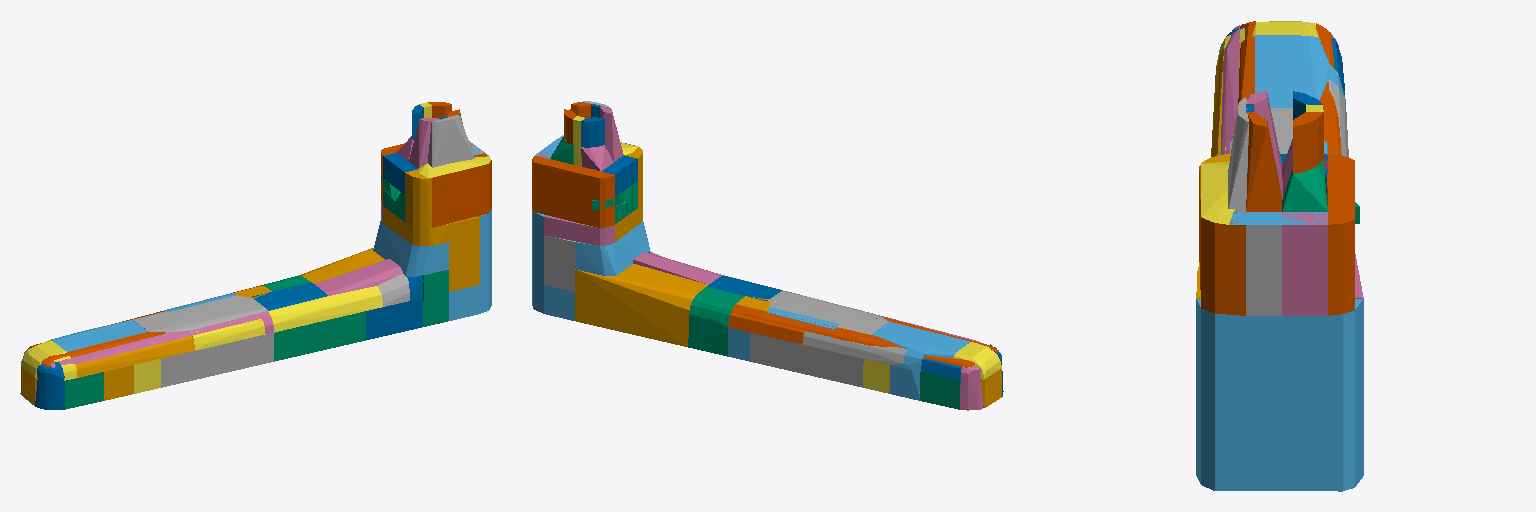
--- Facts derived from the render (not from the file) ---
Views: 3 orthographic renders of the robot side by side, from view 1: azimuth 30°, elevation 25°; view 2: azimuth 150°, elevation 25°; view 3: azimuth 270°, elevation 25°.
Model root with 64 links and 63 joints (63 fixed), rooted at link_handle~handle8_convex_piece_0, posed every joint at zero.
Visible links, largest first — view 1: link_handle~handle8_convex_piece_63, link_handle~handle8_convex_piece_21, link_handle~handle8_convex_piece_58, link_handle~handle8_convex_piece_35, link_handle~handle8_convex_piece_47, link_handle~handle8_convex_piece_49, link_handle~handle8_convex_piece_8, link_handle~handle8_convex_piece_55, link_handle~handle8_convex_piece_48, link_handle~handle8_convex_piece_44, link_handle~handle8_convex_piece_46, link_handle~handle8_convex_piece_38 (+19 smaller); view 2: link_handle~handle8_convex_piece_56, link_handle~handle8_convex_piece_45, link_handle~handle8_convex_piece_63, link_handle~handle8_convex_piece_34, link_handle~handle8_convex_piece_49, link_handle~handle8_convex_piece_47, link_handle~handle8_convex_piece_61, link_handle~handle8_convex_piece_41, link_handle~handle8_convex_piece_7, link_handle~handle8_convex_piece_22, link_handle~handle8_convex_piece_57, link_handle~handle8_convex_piece_25 (+17 smaller); view 3: link_handle~handle8_convex_piece_25, link_handle~handle8_convex_piece_6, link_handle~handle8_convex_piece_41, link_handle~handle8_convex_piece_21, link_handle~handle8_convex_piece_45, link_handle~handle8_convex_piece_15, link_handle~handle8_convex_piece_53, link_handle~handle8_convex_piece_55, link_handle~handle8_convex_piece_26, link_handle~handle8_convex_piece_29, link_handle~handle8_convex_piece_38, link_handle~handle8_convex_piece_43 (+7 smaller).
Link boxes in pixels (x1,y1,x2,y2): link_handle~handle8_convex_piece_63: (161, 333, 273, 387); link_handle~handle8_convex_piece_21: (432, 153, 491, 227); link_handle~handle8_convex_piece_58: (274, 311, 365, 361); link_handle~handle8_convex_piece_35: (268, 286, 382, 332); link_handle~handle8_convex_piece_47: (134, 295, 267, 333); link_handle~handle8_convex_piece_49: (373, 220, 448, 276); link_handle~handle8_convex_piece_8: (449, 216, 479, 291); link_handle~handle8_convex_piece_55: (428, 115, 474, 167); link_handle~handle8_convex_piece_48: (75, 336, 194, 377); link_handle~handle8_convex_piece_44: (366, 298, 422, 339); link_handle~handle8_convex_piece_46: (314, 259, 402, 295); link_handle~handle8_convex_piece_38: (50, 313, 261, 367); link_handle~handle8_convex_piece_56: (575, 264, 707, 346); link_handle~handle8_convex_piece_45: (532, 156, 614, 227); link_handle~handle8_convex_piece_63: (750, 332, 863, 387); link_handle~handle8_convex_piece_34: (688, 287, 744, 356); link_handle~handle8_convex_piece_49: (575, 221, 650, 275); link_handle~handle8_convex_piece_47: (769, 291, 888, 332); link_handle~handle8_convex_piece_61: (731, 304, 974, 367); link_handle~handle8_convex_piece_41: (872, 322, 969, 357); link_handle~handle8_convex_piece_7: (544, 235, 575, 291); link_handle~handle8_convex_piece_22: (544, 215, 614, 245); link_handle~handle8_convex_piece_57: (890, 348, 924, 400); link_handle~handle8_convex_piece_25: (532, 209, 546, 313); link_handle~handle8_convex_piece_25: (1196, 299, 1363, 491); link_handle~handle8_convex_piece_6: (1282, 212, 1327, 315); link_handle~handle8_convex_piece_41: (1255, 35, 1329, 107); link_handle~handle8_convex_piece_21: (1199, 166, 1245, 315); link_handle~handle8_convex_piece_45: (1327, 154, 1354, 315); link_handle~handle8_convex_piece_15: (1246, 212, 1281, 315); link_handle~handle8_convex_piece_53: (1246, 112, 1281, 211); link_handle~handle8_convex_piece_55: (1228, 97, 1248, 211); link_handle~handle8_convex_piece_26: (1282, 159, 1327, 211); link_handle~handle8_convex_piece_29: (1293, 112, 1323, 173); link_handle~handle8_convex_piece_38: (1221, 25, 1239, 154); link_handle~handle8_convex_piece_43: (1201, 162, 1234, 224).
Bounding box of the posed robot: 0.1277 × 0.0227 × 0.052 m (x, y, z).
Meshes: 64 distinct files referenced, 64 mesh visuals loaded (64 OBJ).

URDF robot description (root):
<robot name="root">
  <link name="link_handle~handle8_convex_piece_0">
    <inertial>
      <origin xyz="0 0 0" rpy="0 0 0"/>
      <mass value="9.66E-04"/>
      <inertia ixx="1.10E-07" ixy="-2.01E-07" ixz="-5.53E-07" iyy="3.87E-06" iyz="-3.13E-08" izz="3.80E-06"/>
    </inertial>
    <visual>
      <origin xyz="0 0 0" rpy="0 0 0"/>
      <geometry>
        <mesh filename="handle~handle8_convex_piece_0.obj" scale="1.0000E+00 1.0000E+00 1.0000E+00"/>
      </geometry>
      <material name=""/>
    </visual>
    <collision>
      <origin xyz="0 0 0" rpy="0 0 0"/>
      <geometry>
        <mesh filename="handle~handle8_convex_piece_0.obj" scale="1.0000E+00 1.0000E+00 1.0000E+00"/>
      </geometry>
    </collision>
  </link>
  <link name="link_handle~handle8_convex_piece_1">
    <inertial>
      <origin xyz="0 0 0" rpy="0 0 0"/>
      <mass value="5.49E-04"/>
      <inertia ixx="7.18E-08" ixy="4.76E-08" ixz="-7.96E-08" iyy="1.89E-07" iyz="2.88E-08" izz="1.57E-07"/>
    </inertial>
    <visual>
      <origin xyz="0 0 0" rpy="0 0 0"/>
      <geometry>
        <mesh filename="handle~handle8_convex_piece_1.obj" scale="1.0000E+00 1.0000E+00 1.0000E+00"/>
      </geometry>
      <material name=""/>
    </visual>
    <collision>
      <origin xyz="0 0 0" rpy="0 0 0"/>
      <geometry>
        <mesh filename="handle~handle8_convex_piece_1.obj" scale="1.0000E+00 1.0000E+00 1.0000E+00"/>
      </geometry>
    </collision>
  </link>
  <joint name="link_handle~handle8_convex_piece_1_joint" type="fixed">
    <origin xyz="0 0 0" rpy="0 0 0"/>
    <parent link="link_handle~handle8_convex_piece_0"/>
    <child link="link_handle~handle8_convex_piece_1"/>
  </joint>
  <link name="link_handle~handle8_convex_piece_2">
    <inertial>
      <origin xyz="0 0 0" rpy="0 0 0"/>
      <mass value="1.30E-03"/>
      <inertia ixx="1.38E-07" ixy="1.82E-07" ixz="2.47E-07" iyy="1.01E-06" iyz="-4.94E-08" izz="9.71E-07"/>
    </inertial>
    <visual>
      <origin xyz="0 0 0" rpy="0 0 0"/>
      <geometry>
        <mesh filename="handle~handle8_convex_piece_2.obj" scale="1.0000E+00 1.0000E+00 1.0000E+00"/>
      </geometry>
      <material name=""/>
    </visual>
    <collision>
      <origin xyz="0 0 0" rpy="0 0 0"/>
      <geometry>
        <mesh filename="handle~handle8_convex_piece_2.obj" scale="1.0000E+00 1.0000E+00 1.0000E+00"/>
      </geometry>
    </collision>
  </link>
  <joint name="link_handle~handle8_convex_piece_2_joint" type="fixed">
    <origin xyz="0 0 0" rpy="0 0 0"/>
    <parent link="link_handle~handle8_convex_piece_1"/>
    <child link="link_handle~handle8_convex_piece_2"/>
  </joint>
  <link name="link_handle~handle8_convex_piece_3">
    <inertial>
      <origin xyz="0 0 0" rpy="0 0 0"/>
      <mass value="1.32E-03"/>
      <inertia ixx="1.67E-07" ixy="3.55E-09" ixz="-6.91E-07" iyy="4.07E-06" iyz="2.99E-10" izz="3.97E-06"/>
    </inertial>
    <visual>
      <origin xyz="0 0 0" rpy="0 0 0"/>
      <geometry>
        <mesh filename="handle~handle8_convex_piece_3.obj" scale="1.0000E+00 1.0000E+00 1.0000E+00"/>
      </geometry>
      <material name=""/>
    </visual>
    <collision>
      <origin xyz="0 0 0" rpy="0 0 0"/>
      <geometry>
        <mesh filename="handle~handle8_convex_piece_3.obj" scale="1.0000E+00 1.0000E+00 1.0000E+00"/>
      </geometry>
    </collision>
  </link>
  <joint name="link_handle~handle8_convex_piece_3_joint" type="fixed">
    <origin xyz="0 0 0" rpy="0 0 0"/>
    <parent link="link_handle~handle8_convex_piece_2"/>
    <child link="link_handle~handle8_convex_piece_3"/>
  </joint>
  <link name="link_handle~handle8_convex_piece_4">
    <inertial>
      <origin xyz="0 0 0" rpy="0 0 0"/>
      <mass value="1.26E-04"/>
      <inertia ixx="9.52E-09" ixy="2.07E-08" ixz="8.66E-09" iyy="5.88E-08" iyz="-3.23E-09" izz="6.50E-08"/>
    </inertial>
    <visual>
      <origin xyz="0 0 0" rpy="0 0 0"/>
      <geometry>
        <mesh filename="handle~handle8_convex_piece_4.obj" scale="1.0000E+00 1.0000E+00 1.0000E+00"/>
      </geometry>
      <material name=""/>
    </visual>
    <collision>
      <origin xyz="0 0 0" rpy="0 0 0"/>
      <geometry>
        <mesh filename="handle~handle8_convex_piece_4.obj" scale="1.0000E+00 1.0000E+00 1.0000E+00"/>
      </geometry>
    </collision>
  </link>
  <joint name="link_handle~handle8_convex_piece_4_joint" type="fixed">
    <origin xyz="0 0 0" rpy="0 0 0"/>
    <parent link="link_handle~handle8_convex_piece_3"/>
    <child link="link_handle~handle8_convex_piece_4"/>
  </joint>
  <link name="link_handle~handle8_convex_piece_5">
    <inertial>
      <origin xyz="0 0 0" rpy="0 0 0"/>
      <mass value="6.37E-05"/>
      <inertia ixx="4.13E-09" ixy="-8.38E-09" ixz="-1.26E-08" iyy="7.22E-08" iyz="-1.53E-09" izz="7.01E-08"/>
    </inertial>
    <visual>
      <origin xyz="0 0 0" rpy="0 0 0"/>
      <geometry>
        <mesh filename="handle~handle8_convex_piece_5.obj" scale="1.0000E+00 1.0000E+00 1.0000E+00"/>
      </geometry>
      <material name=""/>
    </visual>
    <collision>
      <origin xyz="0 0 0" rpy="0 0 0"/>
      <geometry>
        <mesh filename="handle~handle8_convex_piece_5.obj" scale="1.0000E+00 1.0000E+00 1.0000E+00"/>
      </geometry>
    </collision>
  </link>
  <joint name="link_handle~handle8_convex_piece_5_joint" type="fixed">
    <origin xyz="0 0 0" rpy="0 0 0"/>
    <parent link="link_handle~handle8_convex_piece_4"/>
    <child link="link_handle~handle8_convex_piece_5"/>
  </joint>
  <link name="link_handle~handle8_convex_piece_6">
    <inertial>
      <origin xyz="0 0 0" rpy="0 0 0"/>
      <mass value="4.26E-04"/>
      <inertia ixx="1.64E-07" ixy="-5.77E-08" ixz="-3.39E-07" iyy="9.14E-07" iyz="-2.60E-08" izz="7.62E-07"/>
    </inertial>
    <visual>
      <origin xyz="0 0 0" rpy="0 0 0"/>
      <geometry>
        <mesh filename="handle~handle8_convex_piece_6.obj" scale="1.0000E+00 1.0000E+00 1.0000E+00"/>
      </geometry>
      <material name=""/>
    </visual>
    <collision>
      <origin xyz="0 0 0" rpy="0 0 0"/>
      <geometry>
        <mesh filename="handle~handle8_convex_piece_6.obj" scale="1.0000E+00 1.0000E+00 1.0000E+00"/>
      </geometry>
    </collision>
  </link>
  <joint name="link_handle~handle8_convex_piece_6_joint" type="fixed">
    <origin xyz="0 0 0" rpy="0 0 0"/>
    <parent link="link_handle~handle8_convex_piece_5"/>
    <child link="link_handle~handle8_convex_piece_6"/>
  </joint>
  <link name="link_handle~handle8_convex_piece_7">
    <inertial>
      <origin xyz="0 0 0" rpy="0 0 0"/>
      <mass value="7.29E-04"/>
      <inertia ixx="6.05E-08" ixy="-2.02E-07" ixz="-1.78E-08" iyy="8.79E-07" iyz="-3.94E-09" izz="9.18E-07"/>
    </inertial>
    <visual>
      <origin xyz="0 0 0" rpy="0 0 0"/>
      <geometry>
        <mesh filename="handle~handle8_convex_piece_7.obj" scale="1.0000E+00 1.0000E+00 1.0000E+00"/>
      </geometry>
      <material name=""/>
    </visual>
    <collision>
      <origin xyz="0 0 0" rpy="0 0 0"/>
      <geometry>
        <mesh filename="handle~handle8_convex_piece_7.obj" scale="1.0000E+00 1.0000E+00 1.0000E+00"/>
      </geometry>
    </collision>
  </link>
  <joint name="link_handle~handle8_convex_piece_7_joint" type="fixed">
    <origin xyz="0 0 0" rpy="0 0 0"/>
    <parent link="link_handle~handle8_convex_piece_6"/>
    <child link="link_handle~handle8_convex_piece_7"/>
  </joint>
  <link name="link_handle~handle8_convex_piece_8">
    <inertial>
      <origin xyz="0 0 0" rpy="0 0 0"/>
      <mass value="1.00E-03"/>
      <inertia ixx="1.05E-07" ixy="2.76E-07" ixz="-1.09E-07" iyy="1.23E-06" iyz="2.51E-08" izz="1.26E-06"/>
    </inertial>
    <visual>
      <origin xyz="0 0 0" rpy="0 0 0"/>
      <geometry>
        <mesh filename="handle~handle8_convex_piece_8.obj" scale="1.0000E+00 1.0000E+00 1.0000E+00"/>
      </geometry>
      <material name=""/>
    </visual>
    <collision>
      <origin xyz="0 0 0" rpy="0 0 0"/>
      <geometry>
        <mesh filename="handle~handle8_convex_piece_8.obj" scale="1.0000E+00 1.0000E+00 1.0000E+00"/>
      </geometry>
    </collision>
  </link>
  <joint name="link_handle~handle8_convex_piece_8_joint" type="fixed">
    <origin xyz="0 0 0" rpy="0 0 0"/>
    <parent link="link_handle~handle8_convex_piece_7"/>
    <child link="link_handle~handle8_convex_piece_8"/>
  </joint>
  <link name="link_handle~handle8_convex_piece_9">
    <inertial>
      <origin xyz="0 0 0" rpy="0 0 0"/>
      <mass value="0.00E+00"/>
      <inertia ixx="5.80E-23" ixy="-0.00E+00" ixz="-1.74E-22" iyy="5.80E-23" iyz="-0.00E+00" izz="0.00E+00"/>
    </inertial>
    <visual>
      <origin xyz="0 0 0" rpy="0 0 0"/>
      <geometry>
        <mesh filename="handle~handle8_convex_piece_9.obj" scale="1.0000E+00 1.0000E+00 1.0000E+00"/>
      </geometry>
      <material name=""/>
    </visual>
    <collision>
      <origin xyz="0 0 0" rpy="0 0 0"/>
      <geometry>
        <mesh filename="handle~handle8_convex_piece_9.obj" scale="1.0000E+00 1.0000E+00 1.0000E+00"/>
      </geometry>
    </collision>
  </link>
  <joint name="link_handle~handle8_convex_piece_9_joint" type="fixed">
    <origin xyz="0 0 0" rpy="0 0 0"/>
    <parent link="link_handle~handle8_convex_piece_8"/>
    <child link="link_handle~handle8_convex_piece_9"/>
  </joint>
  <link name="link_handle~handle8_convex_piece_10">
    <inertial>
      <origin xyz="0 0 0" rpy="0 0 0"/>
      <mass value="7.95E-05"/>
      <inertia ixx="2.95E-08" ixy="-1.14E-08" ixz="-3.44E-08" iyy="7.14E-08" iyz="-8.72E-09" izz="4.84E-08"/>
    </inertial>
    <visual>
      <origin xyz="0 0 0" rpy="0 0 0"/>
      <geometry>
        <mesh filename="handle~handle8_convex_piece_10.obj" scale="1.0000E+00 1.0000E+00 1.0000E+00"/>
      </geometry>
      <material name=""/>
    </visual>
    <collision>
      <origin xyz="0 0 0" rpy="0 0 0"/>
      <geometry>
        <mesh filename="handle~handle8_convex_piece_10.obj" scale="1.0000E+00 1.0000E+00 1.0000E+00"/>
      </geometry>
    </collision>
  </link>
  <joint name="link_handle~handle8_convex_piece_10_joint" type="fixed">
    <origin xyz="0 0 0" rpy="0 0 0"/>
    <parent link="link_handle~handle8_convex_piece_9"/>
    <child link="link_handle~handle8_convex_piece_10"/>
  </joint>
  <link name="link_handle~handle8_convex_piece_11">
    <inertial>
      <origin xyz="0 0 0" rpy="0 0 0"/>
      <mass value="1.10E-04"/>
      <inertia ixx="8.50E-08" ixy="-1.58E-08" ixz="-9.57E-08" iyy="2.02E-07" iyz="-1.29E-08" izz="1.21E-07"/>
    </inertial>
    <visual>
      <origin xyz="0 0 0" rpy="0 0 0"/>
      <geometry>
        <mesh filename="handle~handle8_convex_piece_11.obj" scale="1.0000E+00 1.0000E+00 1.0000E+00"/>
      </geometry>
      <material name=""/>
    </visual>
    <collision>
      <origin xyz="0 0 0" rpy="0 0 0"/>
      <geometry>
        <mesh filename="handle~handle8_convex_piece_11.obj" scale="1.0000E+00 1.0000E+00 1.0000E+00"/>
      </geometry>
    </collision>
  </link>
  <joint name="link_handle~handle8_convex_piece_11_joint" type="fixed">
    <origin xyz="0 0 0" rpy="0 0 0"/>
    <parent link="link_handle~handle8_convex_piece_10"/>
    <child link="link_handle~handle8_convex_piece_11"/>
  </joint>
  <link name="link_handle~handle8_convex_piece_12">
    <inertial>
      <origin xyz="0 0 0" rpy="0 0 0"/>
      <mass value="5.61E-05"/>
      <inertia ixx="4.03E-09" ixy="2.89E-08" ixz="-1.80E-08" iyy="2.95E-07" iyz="1.80E-09" izz="2.97E-07"/>
    </inertial>
    <visual>
      <origin xyz="0 0 0" rpy="0 0 0"/>
      <geometry>
        <mesh filename="handle~handle8_convex_piece_12.obj" scale="1.0000E+00 1.0000E+00 1.0000E+00"/>
      </geometry>
      <material name=""/>
    </visual>
    <collision>
      <origin xyz="0 0 0" rpy="0 0 0"/>
      <geometry>
        <mesh filename="handle~handle8_convex_piece_12.obj" scale="1.0000E+00 1.0000E+00 1.0000E+00"/>
      </geometry>
    </collision>
  </link>
  <joint name="link_handle~handle8_convex_piece_12_joint" type="fixed">
    <origin xyz="0 0 0" rpy="0 0 0"/>
    <parent link="link_handle~handle8_convex_piece_11"/>
    <child link="link_handle~handle8_convex_piece_12"/>
  </joint>
  <link name="link_handle~handle8_convex_piece_13">
    <inertial>
      <origin xyz="0 0 0" rpy="0 0 0"/>
      <mass value="1.04E-04"/>
      <inertia ixx="9.45E-09" ixy="1.99E-08" ixz="-1.05E-08" iyy="6.02E-08" iyz="3.88E-09" izz="6.54E-08"/>
    </inertial>
    <visual>
      <origin xyz="0 0 0" rpy="0 0 0"/>
      <geometry>
        <mesh filename="handle~handle8_convex_piece_13.obj" scale="1.0000E+00 1.0000E+00 1.0000E+00"/>
      </geometry>
      <material name=""/>
    </visual>
    <collision>
      <origin xyz="0 0 0" rpy="0 0 0"/>
      <geometry>
        <mesh filename="handle~handle8_convex_piece_13.obj" scale="1.0000E+00 1.0000E+00 1.0000E+00"/>
      </geometry>
    </collision>
  </link>
  <joint name="link_handle~handle8_convex_piece_13_joint" type="fixed">
    <origin xyz="0 0 0" rpy="0 0 0"/>
    <parent link="link_handle~handle8_convex_piece_12"/>
    <child link="link_handle~handle8_convex_piece_13"/>
  </joint>
  <link name="link_handle~handle8_convex_piece_14">
    <inertial>
      <origin xyz="0 0 0" rpy="0 0 0"/>
      <mass value="1.01E-04"/>
      <inertia ixx="1.33E-08" ixy="5.02E-08" ixz="-7.29E-08" iyy="6.50E-07" iyz="5.75E-09" izz="6.45E-07"/>
    </inertial>
    <visual>
      <origin xyz="0 0 0" rpy="0 0 0"/>
      <geometry>
        <mesh filename="handle~handle8_convex_piece_14.obj" scale="1.0000E+00 1.0000E+00 1.0000E+00"/>
      </geometry>
      <material name=""/>
    </visual>
    <collision>
      <origin xyz="0 0 0" rpy="0 0 0"/>
      <geometry>
        <mesh filename="handle~handle8_convex_piece_14.obj" scale="1.0000E+00 1.0000E+00 1.0000E+00"/>
      </geometry>
    </collision>
  </link>
  <joint name="link_handle~handle8_convex_piece_14_joint" type="fixed">
    <origin xyz="0 0 0" rpy="0 0 0"/>
    <parent link="link_handle~handle8_convex_piece_13"/>
    <child link="link_handle~handle8_convex_piece_14"/>
  </joint>
  <link name="link_handle~handle8_convex_piece_15">
    <inertial>
      <origin xyz="0 0 0" rpy="0 0 0"/>
      <mass value="6.59E-04"/>
      <inertia ixx="2.51E-07" ixy="5.80E-08" ixz="-4.97E-07" iyy="1.30E-06" iyz="2.77E-08" izz="1.06E-06"/>
    </inertial>
    <visual>
      <origin xyz="0 0 0" rpy="0 0 0"/>
      <geometry>
        <mesh filename="handle~handle8_convex_piece_15.obj" scale="1.0000E+00 1.0000E+00 1.0000E+00"/>
      </geometry>
      <material name=""/>
    </visual>
    <collision>
      <origin xyz="0 0 0" rpy="0 0 0"/>
      <geometry>
        <mesh filename="handle~handle8_convex_piece_15.obj" scale="1.0000E+00 1.0000E+00 1.0000E+00"/>
      </geometry>
    </collision>
  </link>
  <joint name="link_handle~handle8_convex_piece_15_joint" type="fixed">
    <origin xyz="0 0 0" rpy="0 0 0"/>
    <parent link="link_handle~handle8_convex_piece_14"/>
    <child link="link_handle~handle8_convex_piece_15"/>
  </joint>
  <link name="link_handle~handle8_convex_piece_16">
    <inertial>
      <origin xyz="0 0 0" rpy="0 0 0"/>
      <mass value="3.86E-04"/>
      <inertia ixx="4.54E-08" ixy="2.09E-08" ixz="-3.15E-07" iyy="2.54E-06" iyz="2.73E-09" izz="2.50E-06"/>
    </inertial>
    <visual>
      <origin xyz="0 0 0" rpy="0 0 0"/>
      <geometry>
        <mesh filename="handle~handle8_convex_piece_16.obj" scale="1.0000E+00 1.0000E+00 1.0000E+00"/>
      </geometry>
      <material name=""/>
    </visual>
    <collision>
      <origin xyz="0 0 0" rpy="0 0 0"/>
      <geometry>
        <mesh filename="handle~handle8_convex_piece_16.obj" scale="1.0000E+00 1.0000E+00 1.0000E+00"/>
      </geometry>
    </collision>
  </link>
  <joint name="link_handle~handle8_convex_piece_16_joint" type="fixed">
    <origin xyz="0 0 0" rpy="0 0 0"/>
    <parent link="link_handle~handle8_convex_piece_15"/>
    <child link="link_handle~handle8_convex_piece_16"/>
  </joint>
  <link name="link_handle~handle8_convex_piece_17">
    <inertial>
      <origin xyz="0 0 0" rpy="0 0 0"/>
      <mass value="1.62E-03"/>
      <inertia ixx="2.50E-07" ixy="-6.29E-10" ixz="5.82E-07" iyy="2.15E-06" iyz="1.79E-10" izz="2.04E-06"/>
    </inertial>
    <visual>
      <origin xyz="0 0 0" rpy="0 0 0"/>
      <geometry>
        <mesh filename="handle~handle8_convex_piece_17.obj" scale="1.0000E+00 1.0000E+00 1.0000E+00"/>
      </geometry>
      <material name=""/>
    </visual>
    <collision>
      <origin xyz="0 0 0" rpy="0 0 0"/>
      <geometry>
        <mesh filename="handle~handle8_convex_piece_17.obj" scale="1.0000E+00 1.0000E+00 1.0000E+00"/>
      </geometry>
    </collision>
  </link>
  <joint name="link_handle~handle8_convex_piece_17_joint" type="fixed">
    <origin xyz="0 0 0" rpy="0 0 0"/>
    <parent link="link_handle~handle8_convex_piece_16"/>
    <child link="link_handle~handle8_convex_piece_17"/>
  </joint>
  <link name="link_handle~handle8_convex_piece_18">
    <inertial>
      <origin xyz="0 0 0" rpy="0 0 0"/>
      <mass value="1.58E-03"/>
      <inertia ixx="2.16E-07" ixy="1.77E-09" ixz="-1.18E-06" iyy="8.41E-06" iyz="1.74E-10" izz="8.28E-06"/>
    </inertial>
    <visual>
      <origin xyz="0 0 0" rpy="0 0 0"/>
      <geometry>
        <mesh filename="handle~handle8_convex_piece_18.obj" scale="1.0000E+00 1.0000E+00 1.0000E+00"/>
      </geometry>
      <material name=""/>
    </visual>
    <collision>
      <origin xyz="0 0 0" rpy="0 0 0"/>
      <geometry>
        <mesh filename="handle~handle8_convex_piece_18.obj" scale="1.0000E+00 1.0000E+00 1.0000E+00"/>
      </geometry>
    </collision>
  </link>
  <joint name="link_handle~handle8_convex_piece_18_joint" type="fixed">
    <origin xyz="0 0 0" rpy="0 0 0"/>
    <parent link="link_handle~handle8_convex_piece_17"/>
    <child link="link_handle~handle8_convex_piece_18"/>
  </joint>
  <link name="link_handle~handle8_convex_piece_19">
    <inertial>
      <origin xyz="0 0 0" rpy="0 0 0"/>
      <mass value="3.68E-04"/>
      <inertia ixx="1.62E-08" ixy="1.40E-12" ixz="-4.61E-08" iyy="5.04E-07" iyz="1.32E-13" izz="4.93E-07"/>
    </inertial>
    <visual>
      <origin xyz="0 0 0" rpy="0 0 0"/>
      <geometry>
        <mesh filename="handle~handle8_convex_piece_19.obj" scale="1.0000E+00 1.0000E+00 1.0000E+00"/>
      </geometry>
      <material name=""/>
    </visual>
    <collision>
      <origin xyz="0 0 0" rpy="0 0 0"/>
      <geometry>
        <mesh filename="handle~handle8_convex_piece_19.obj" scale="1.0000E+00 1.0000E+00 1.0000E+00"/>
      </geometry>
    </collision>
  </link>
  <joint name="link_handle~handle8_convex_piece_19_joint" type="fixed">
    <origin xyz="0 0 0" rpy="0 0 0"/>
    <parent link="link_handle~handle8_convex_piece_18"/>
    <child link="link_handle~handle8_convex_piece_19"/>
  </joint>
  <link name="link_handle~handle8_convex_piece_20">
    <inertial>
      <origin xyz="0 0 0" rpy="0 0 0"/>
      <mass value="1.97E-04"/>
      <inertia ixx="2.43E-08" ixy="-8.39E-08" ixz="-1.43E-07" iyy="1.27E-06" iyz="-9.59E-09" izz="1.26E-06"/>
    </inertial>
    <visual>
      <origin xyz="0 0 0" rpy="0 0 0"/>
      <geometry>
        <mesh filename="handle~handle8_convex_piece_20.obj" scale="1.0000E+00 1.0000E+00 1.0000E+00"/>
      </geometry>
      <material name=""/>
    </visual>
    <collision>
      <origin xyz="0 0 0" rpy="0 0 0"/>
      <geometry>
        <mesh filename="handle~handle8_convex_piece_20.obj" scale="1.0000E+00 1.0000E+00 1.0000E+00"/>
      </geometry>
    </collision>
  </link>
  <joint name="link_handle~handle8_convex_piece_20_joint" type="fixed">
    <origin xyz="0 0 0" rpy="0 0 0"/>
    <parent link="link_handle~handle8_convex_piece_19"/>
    <child link="link_handle~handle8_convex_piece_20"/>
  </joint>
  <link name="link_handle~handle8_convex_piece_21">
    <inertial>
      <origin xyz="0 0 0" rpy="0 0 0"/>
      <mass value="1.69E-03"/>
      <inertia ixx="7.28E-07" ixy="4.37E-07" ixz="-1.09E-06" iyy="2.65E-06" iyz="2.41E-07" izz="2.13E-06"/>
    </inertial>
    <visual>
      <origin xyz="0 0 0" rpy="0 0 0"/>
      <geometry>
        <mesh filename="handle~handle8_convex_piece_21.obj" scale="1.0000E+00 1.0000E+00 1.0000E+00"/>
      </geometry>
      <material name=""/>
    </visual>
    <collision>
      <origin xyz="0 0 0" rpy="0 0 0"/>
      <geometry>
        <mesh filename="handle~handle8_convex_piece_21.obj" scale="1.0000E+00 1.0000E+00 1.0000E+00"/>
      </geometry>
    </collision>
  </link>
  <joint name="link_handle~handle8_convex_piece_21_joint" type="fixed">
    <origin xyz="0 0 0" rpy="0 0 0"/>
    <parent link="link_handle~handle8_convex_piece_20"/>
    <child link="link_handle~handle8_convex_piece_21"/>
  </joint>
  <link name="link_handle~handle8_convex_piece_22">
    <inertial>
      <origin xyz="0 0 0" rpy="0 0 0"/>
      <mass value="4.37E-04"/>
      <inertia ixx="7.14E-08" ixy="-1.10E-07" ixz="-1.32E-07" iyy="4.75E-07" iyz="-3.41E-08" izz="4.63E-07"/>
    </inertial>
    <visual>
      <origin xyz="0 0 0" rpy="0 0 0"/>
      <geometry>
        <mesh filename="handle~handle8_convex_piece_22.obj" scale="1.0000E+00 1.0000E+00 1.0000E+00"/>
      </geometry>
      <material name=""/>
    </visual>
    <collision>
      <origin xyz="0 0 0" rpy="0 0 0"/>
      <geometry>
        <mesh filename="handle~handle8_convex_piece_22.obj" scale="1.0000E+00 1.0000E+00 1.0000E+00"/>
      </geometry>
    </collision>
  </link>
  <joint name="link_handle~handle8_convex_piece_22_joint" type="fixed">
    <origin xyz="0 0 0" rpy="0 0 0"/>
    <parent link="link_handle~handle8_convex_piece_21"/>
    <child link="link_handle~handle8_convex_piece_22"/>
  </joint>
  <link name="link_handle~handle8_convex_piece_23">
    <inertial>
      <origin xyz="0 0 0" rpy="0 0 0"/>
      <mass value="5.21E-05"/>
      <inertia ixx="4.34E-09" ixy="2.30E-08" ixz="-1.31E-08" iyy="1.66E-07" iyz="1.86E-09" izz="1.68E-07"/>
    </inertial>
    <visual>
      <origin xyz="0 0 0" rpy="0 0 0"/>
      <geometry>
        <mesh filename="handle~handle8_convex_piece_23.obj" scale="1.0000E+00 1.0000E+00 1.0000E+00"/>
      </geometry>
      <material name=""/>
    </visual>
    <collision>
      <origin xyz="0 0 0" rpy="0 0 0"/>
      <geometry>
        <mesh filename="handle~handle8_convex_piece_23.obj" scale="1.0000E+00 1.0000E+00 1.0000E+00"/>
      </geometry>
    </collision>
  </link>
  <joint name="link_handle~handle8_convex_piece_23_joint" type="fixed">
    <origin xyz="0 0 0" rpy="0 0 0"/>
    <parent link="link_handle~handle8_convex_piece_22"/>
    <child link="link_handle~handle8_convex_piece_23"/>
  </joint>
  <link name="link_handle~handle8_convex_piece_24">
    <inertial>
      <origin xyz="0 0 0" rpy="0 0 0"/>
      <mass value="2.36E-04"/>
      <inertia ixx="1.08E-07" ixy="4.22E-08" ixz="-1.10E-07" iyy="2.28E-07" iyz="3.44E-08" izz="1.47E-07"/>
    </inertial>
    <visual>
      <origin xyz="0 0 0" rpy="0 0 0"/>
      <geometry>
        <mesh filename="handle~handle8_convex_piece_24.obj" scale="1.0000E+00 1.0000E+00 1.0000E+00"/>
      </geometry>
      <material name=""/>
    </visual>
    <collision>
      <origin xyz="0 0 0" rpy="0 0 0"/>
      <geometry>
        <mesh filename="handle~handle8_convex_piece_24.obj" scale="1.0000E+00 1.0000E+00 1.0000E+00"/>
      </geometry>
    </collision>
  </link>
  <joint name="link_handle~handle8_convex_piece_24_joint" type="fixed">
    <origin xyz="0 0 0" rpy="0 0 0"/>
    <parent link="link_handle~handle8_convex_piece_23"/>
    <child link="link_handle~handle8_convex_piece_24"/>
  </joint>
  <link name="link_handle~handle8_convex_piece_25">
    <inertial>
      <origin xyz="0 0 0" rpy="0 0 0"/>
      <mass value="2.85E-03"/>
      <inertia ixx="2.75E-07" ixy="-2.26E-10" ixz="1.26E-07" iyy="5.06E-06" iyz="-5.55E-12" izz="5.00E-06"/>
    </inertial>
    <visual>
      <origin xyz="0 0 0" rpy="0 0 0"/>
      <geometry>
        <mesh filename="handle~handle8_convex_piece_25.obj" scale="1.0000E+00 1.0000E+00 1.0000E+00"/>
      </geometry>
      <material name=""/>
    </visual>
    <collision>
      <origin xyz="0 0 0" rpy="0 0 0"/>
      <geometry>
        <mesh filename="handle~handle8_convex_piece_25.obj" scale="1.0000E+00 1.0000E+00 1.0000E+00"/>
      </geometry>
    </collision>
  </link>
  <joint name="link_handle~handle8_convex_piece_25_joint" type="fixed">
    <origin xyz="0 0 0" rpy="0 0 0"/>
    <parent link="link_handle~handle8_convex_piece_24"/>
    <child link="link_handle~handle8_convex_piece_25"/>
  </joint>
  <link name="link_handle~handle8_convex_piece_26">
    <inertial>
      <origin xyz="0 0 0" rpy="0 0 0"/>
      <mass value="5.97E-04"/>
      <inertia ixx="2.83E-07" ixy="-8.32E-08" ixz="-4.70E-07" iyy="1.13E-06" iyz="-4.53E-08" izz="8.68E-07"/>
    </inertial>
    <visual>
      <origin xyz="0 0 0" rpy="0 0 0"/>
      <geometry>
        <mesh filename="handle~handle8_convex_piece_26.obj" scale="1.0000E+00 1.0000E+00 1.0000E+00"/>
      </geometry>
      <material name=""/>
    </visual>
    <collision>
      <origin xyz="0 0 0" rpy="0 0 0"/>
      <geometry>
        <mesh filename="handle~handle8_convex_piece_26.obj" scale="1.0000E+00 1.0000E+00 1.0000E+00"/>
      </geometry>
    </collision>
  </link>
  <joint name="link_handle~handle8_convex_piece_26_joint" type="fixed">
    <origin xyz="0 0 0" rpy="0 0 0"/>
    <parent link="link_handle~handle8_convex_piece_25"/>
    <child link="link_handle~handle8_convex_piece_26"/>
  </joint>
  <link name="link_handle~handle8_convex_piece_27">
    <inertial>
      <origin xyz="0 0 0" rpy="0 0 0"/>
      <mass value="9.42E-05"/>
      <inertia ixx="8.77E-09" ixy="-2.44E-08" ixz="-1.29E-08" iyy="9.31E-08" iyz="-3.61E-09" izz="9.79E-08"/>
    </inertial>
    <visual>
      <origin xyz="0 0 0" rpy="0 0 0"/>
      <geometry>
        <mesh filename="handle~handle8_convex_piece_27.obj" scale="1.0000E+00 1.0000E+00 1.0000E+00"/>
      </geometry>
      <material name=""/>
    </visual>
    <collision>
      <origin xyz="0 0 0" rpy="0 0 0"/>
      <geometry>
        <mesh filename="handle~handle8_convex_piece_27.obj" scale="1.0000E+00 1.0000E+00 1.0000E+00"/>
      </geometry>
    </collision>
  </link>
  <joint name="link_handle~handle8_convex_piece_27_joint" type="fixed">
    <origin xyz="0 0 0" rpy="0 0 0"/>
    <parent link="link_handle~handle8_convex_piece_26"/>
    <child link="link_handle~handle8_convex_piece_27"/>
  </joint>
  <link name="link_handle~handle8_convex_piece_28">
    <inertial>
      <origin xyz="0 0 0" rpy="0 0 0"/>
      <mass value="7.24E-05"/>
      <inertia ixx="8.57E-08" ixy="-7.64E-09" ixz="-7.39E-08" iyy="1.49E-07" iyz="-8.68E-09" izz="6.56E-08"/>
    </inertial>
    <visual>
      <origin xyz="0 0 0" rpy="0 0 0"/>
      <geometry>
        <mesh filename="handle~handle8_convex_piece_28.obj" scale="1.0000E+00 1.0000E+00 1.0000E+00"/>
      </geometry>
      <material name=""/>
    </visual>
    <collision>
      <origin xyz="0 0 0" rpy="0 0 0"/>
      <geometry>
        <mesh filename="handle~handle8_convex_piece_28.obj" scale="1.0000E+00 1.0000E+00 1.0000E+00"/>
      </geometry>
    </collision>
  </link>
  <joint name="link_handle~handle8_convex_piece_28_joint" type="fixed">
    <origin xyz="0 0 0" rpy="0 0 0"/>
    <parent link="link_handle~handle8_convex_piece_27"/>
    <child link="link_handle~handle8_convex_piece_28"/>
  </joint>
  <link name="link_handle~handle8_convex_piece_29">
    <inertial>
      <origin xyz="0 0 0" rpy="0 0 0"/>
      <mass value="8.22E-05"/>
      <inertia ixx="9.75E-08" ixy="-1.06E-08" ixz="-1.02E-07" iyy="2.04E-07" iyz="-1.01E-08" izz="1.09E-07"/>
    </inertial>
    <visual>
      <origin xyz="0 0 0" rpy="0 0 0"/>
      <geometry>
        <mesh filename="handle~handle8_convex_piece_29.obj" scale="1.0000E+00 1.0000E+00 1.0000E+00"/>
      </geometry>
      <material name=""/>
    </visual>
    <collision>
      <origin xyz="0 0 0" rpy="0 0 0"/>
      <geometry>
        <mesh filename="handle~handle8_convex_piece_29.obj" scale="1.0000E+00 1.0000E+00 1.0000E+00"/>
      </geometry>
    </collision>
  </link>
  <joint name="link_handle~handle8_convex_piece_29_joint" type="fixed">
    <origin xyz="0 0 0" rpy="0 0 0"/>
    <parent link="link_handle~handle8_convex_piece_28"/>
    <child link="link_handle~handle8_convex_piece_29"/>
  </joint>
  <link name="link_handle~handle8_convex_piece_30">
    <inertial>
      <origin xyz="0 0 0" rpy="0 0 0"/>
      <mass value="2.30E-05"/>
      <inertia ixx="1.69E-09" ixy="-3.50E-09" ixz="-1.66E-09" iyy="9.55E-09" iyz="-6.54E-10" izz="1.06E-08"/>
    </inertial>
    <visual>
      <origin xyz="0 0 0" rpy="0 0 0"/>
      <geometry>
        <mesh filename="handle~handle8_convex_piece_30.obj" scale="1.0000E+00 1.0000E+00 1.0000E+00"/>
      </geometry>
      <material name=""/>
    </visual>
    <collision>
      <origin xyz="0 0 0" rpy="0 0 0"/>
      <geometry>
        <mesh filename="handle~handle8_convex_piece_30.obj" scale="1.0000E+00 1.0000E+00 1.0000E+00"/>
      </geometry>
    </collision>
  </link>
  <joint name="link_handle~handle8_convex_piece_30_joint" type="fixed">
    <origin xyz="0 0 0" rpy="0 0 0"/>
    <parent link="link_handle~handle8_convex_piece_29"/>
    <child link="link_handle~handle8_convex_piece_30"/>
  </joint>
  <link name="link_handle~handle8_convex_piece_31">
    <inertial>
      <origin xyz="0 0 0" rpy="0 0 0"/>
      <mass value="6.12E-05"/>
      <inertia ixx="5.96E-09" ixy="8.94E-09" ixz="3.44E-09" iyy="1.70E-08" iyz="-2.02E-09" izz="2.12E-08"/>
    </inertial>
    <visual>
      <origin xyz="0 0 0" rpy="0 0 0"/>
      <geometry>
        <mesh filename="handle~handle8_convex_piece_31.obj" scale="1.0000E+00 1.0000E+00 1.0000E+00"/>
      </geometry>
      <material name=""/>
    </visual>
    <collision>
      <origin xyz="0 0 0" rpy="0 0 0"/>
      <geometry>
        <mesh filename="handle~handle8_convex_piece_31.obj" scale="1.0000E+00 1.0000E+00 1.0000E+00"/>
      </geometry>
    </collision>
  </link>
  <joint name="link_handle~handle8_convex_piece_31_joint" type="fixed">
    <origin xyz="0 0 0" rpy="0 0 0"/>
    <parent link="link_handle~handle8_convex_piece_30"/>
    <child link="link_handle~handle8_convex_piece_31"/>
  </joint>
  <link name="link_handle~handle8_convex_piece_32">
    <inertial>
      <origin xyz="0 0 0" rpy="0 0 0"/>
      <mass value="7.07E-04"/>
      <inertia ixx="8.77E-08" ixy="4.75E-08" ixz="-1.80E-07" iyy="5.57E-07" iyz="1.71E-08" izz="5.09E-07"/>
    </inertial>
    <visual>
      <origin xyz="0 0 0" rpy="0 0 0"/>
      <geometry>
        <mesh filename="handle~handle8_convex_piece_32.obj" scale="1.0000E+00 1.0000E+00 1.0000E+00"/>
      </geometry>
      <material name=""/>
    </visual>
    <collision>
      <origin xyz="0 0 0" rpy="0 0 0"/>
      <geometry>
        <mesh filename="handle~handle8_convex_piece_32.obj" scale="1.0000E+00 1.0000E+00 1.0000E+00"/>
      </geometry>
    </collision>
  </link>
  <joint name="link_handle~handle8_convex_piece_32_joint" type="fixed">
    <origin xyz="0 0 0" rpy="0 0 0"/>
    <parent link="link_handle~handle8_convex_piece_31"/>
    <child link="link_handle~handle8_convex_piece_32"/>
  </joint>
  <link name="link_handle~handle8_convex_piece_33">
    <inertial>
      <origin xyz="0 0 0" rpy="0 0 0"/>
      <mass value="1.36E-04"/>
      <inertia ixx="6.46E-09" ixy="2.48E-08" ixz="-1.21E-08" iyy="1.31E-07" iyz="2.56E-09" izz="1.34E-07"/>
    </inertial>
    <visual>
      <origin xyz="0 0 0" rpy="0 0 0"/>
      <geometry>
        <mesh filename="handle~handle8_convex_piece_33.obj" scale="1.0000E+00 1.0000E+00 1.0000E+00"/>
      </geometry>
      <material name=""/>
    </visual>
    <collision>
      <origin xyz="0 0 0" rpy="0 0 0"/>
      <geometry>
        <mesh filename="handle~handle8_convex_piece_33.obj" scale="1.0000E+00 1.0000E+00 1.0000E+00"/>
      </geometry>
    </collision>
  </link>
  <joint name="link_handle~handle8_convex_piece_33_joint" type="fixed">
    <origin xyz="0 0 0" rpy="0 0 0"/>
    <parent link="link_handle~handle8_convex_piece_32"/>
    <child link="link_handle~handle8_convex_piece_33"/>
  </joint>
  <link name="link_handle~handle8_convex_piece_34">
    <inertial>
      <origin xyz="0 0 0" rpy="0 0 0"/>
      <mass value="1.24E-03"/>
      <inertia ixx="1.46E-07" ixy="4.99E-08" ixz="-7.10E-08" iyy="1.72E-07" iyz="5.89E-08" izz="1.22E-07"/>
    </inertial>
    <visual>
      <origin xyz="0 0 0" rpy="0 0 0"/>
      <geometry>
        <mesh filename="handle~handle8_convex_piece_34.obj" scale="1.0000E+00 1.0000E+00 1.0000E+00"/>
      </geometry>
      <material name=""/>
    </visual>
    <collision>
      <origin xyz="0 0 0" rpy="0 0 0"/>
      <geometry>
        <mesh filename="handle~handle8_convex_piece_34.obj" scale="1.0000E+00 1.0000E+00 1.0000E+00"/>
      </geometry>
    </collision>
  </link>
  <joint name="link_handle~handle8_convex_piece_34_joint" type="fixed">
    <origin xyz="0 0 0" rpy="0 0 0"/>
    <parent link="link_handle~handle8_convex_piece_33"/>
    <child link="link_handle~handle8_convex_piece_34"/>
  </joint>
  <link name="link_handle~handle8_convex_piece_35">
    <inertial>
      <origin xyz="0 0 0" rpy="0 0 0"/>
      <mass value="1.69E-04"/>
      <inertia ixx="1.62E-08" ixy="-4.46E-09" ixz="-2.24E-09" iyy="1.75E-08" iyz="-6.09E-09" izz="2.78E-08"/>
    </inertial>
    <visual>
      <origin xyz="0 0 0" rpy="0 0 0"/>
      <geometry>
        <mesh filename="handle~handle8_convex_piece_35.obj" scale="1.0000E+00 1.0000E+00 1.0000E+00"/>
      </geometry>
      <material name=""/>
    </visual>
    <collision>
      <origin xyz="0 0 0" rpy="0 0 0"/>
      <geometry>
        <mesh filename="handle~handle8_convex_piece_35.obj" scale="1.0000E+00 1.0000E+00 1.0000E+00"/>
      </geometry>
    </collision>
  </link>
  <joint name="link_handle~handle8_convex_piece_35_joint" type="fixed">
    <origin xyz="0 0 0" rpy="0 0 0"/>
    <parent link="link_handle~handle8_convex_piece_34"/>
    <child link="link_handle~handle8_convex_piece_35"/>
  </joint>
  <link name="link_handle~handle8_convex_piece_36">
    <inertial>
      <origin xyz="0 0 0" rpy="0 0 0"/>
      <mass value="4.37E-04"/>
      <inertia ixx="1.49E-08" ixy="-1.83E-08" ixz="-1.32E-08" iyy="6.02E-08" iyz="-6.14E-09" izz="6.64E-08"/>
    </inertial>
    <visual>
      <origin xyz="0 0 0" rpy="0 0 0"/>
      <geometry>
        <mesh filename="handle~handle8_convex_piece_36.obj" scale="1.0000E+00 1.0000E+00 1.0000E+00"/>
      </geometry>
      <material name=""/>
    </visual>
    <collision>
      <origin xyz="0 0 0" rpy="0 0 0"/>
      <geometry>
        <mesh filename="handle~handle8_convex_piece_36.obj" scale="1.0000E+00 1.0000E+00 1.0000E+00"/>
      </geometry>
    </collision>
  </link>
  <joint name="link_handle~handle8_convex_piece_36_joint" type="fixed">
    <origin xyz="0 0 0" rpy="0 0 0"/>
    <parent link="link_handle~handle8_convex_piece_35"/>
    <child link="link_handle~handle8_convex_piece_36"/>
  </joint>
  <link name="link_handle~handle8_convex_piece_37">
    <inertial>
      <origin xyz="0 0 0" rpy="0 0 0"/>
      <mass value="8.27E-05"/>
      <inertia ixx="1.98E-09" ixy="-2.26E-08" ixz="-1.14E-08" iyy="3.39E-07" iyz="-7.80E-10" izz="3.41E-07"/>
    </inertial>
    <visual>
      <origin xyz="0 0 0" rpy="0 0 0"/>
      <geometry>
        <mesh filename="handle~handle8_convex_piece_37.obj" scale="1.0000E+00 1.0000E+00 1.0000E+00"/>
      </geometry>
      <material name=""/>
    </visual>
    <collision>
      <origin xyz="0 0 0" rpy="0 0 0"/>
      <geometry>
        <mesh filename="handle~handle8_convex_piece_37.obj" scale="1.0000E+00 1.0000E+00 1.0000E+00"/>
      </geometry>
    </collision>
  </link>
  <joint name="link_handle~handle8_convex_piece_37_joint" type="fixed">
    <origin xyz="0 0 0" rpy="0 0 0"/>
    <parent link="link_handle~handle8_convex_piece_36"/>
    <child link="link_handle~handle8_convex_piece_37"/>
  </joint>
  <link name="link_handle~handle8_convex_piece_38">
    <inertial>
      <origin xyz="0 0 0" rpy="0 0 0"/>
      <mass value="7.99E-05"/>
      <inertia ixx="4.12E-09" ixy="-2.59E-08" ixz="-1.02E-08" iyy="2.11E-07" iyz="-1.37E-09" izz="2.14E-07"/>
    </inertial>
    <visual>
      <origin xyz="0 0 0" rpy="0 0 0"/>
      <geometry>
        <mesh filename="handle~handle8_convex_piece_38.obj" scale="1.0000E+00 1.0000E+00 1.0000E+00"/>
      </geometry>
      <material name=""/>
    </visual>
    <collision>
      <origin xyz="0 0 0" rpy="0 0 0"/>
      <geometry>
        <mesh filename="handle~handle8_convex_piece_38.obj" scale="1.0000E+00 1.0000E+00 1.0000E+00"/>
      </geometry>
    </collision>
  </link>
  <joint name="link_handle~handle8_convex_piece_38_joint" type="fixed">
    <origin xyz="0 0 0" rpy="0 0 0"/>
    <parent link="link_handle~handle8_convex_piece_37"/>
    <child link="link_handle~handle8_convex_piece_38"/>
  </joint>
  <link name="link_handle~handle8_convex_piece_39">
    <inertial>
      <origin xyz="0 0 0" rpy="0 0 0"/>
      <mass value="1.60E-04"/>
      <inertia ixx="1.03E-08" ixy="4.69E-08" ixz="-2.40E-08" iyy="2.89E-07" iyz="4.18E-09" izz="2.95E-07"/>
    </inertial>
    <visual>
      <origin xyz="0 0 0" rpy="0 0 0"/>
      <geometry>
        <mesh filename="handle~handle8_convex_piece_39.obj" scale="1.0000E+00 1.0000E+00 1.0000E+00"/>
      </geometry>
      <material name=""/>
    </visual>
    <collision>
      <origin xyz="0 0 0" rpy="0 0 0"/>
      <geometry>
        <mesh filename="handle~handle8_convex_piece_39.obj" scale="1.0000E+00 1.0000E+00 1.0000E+00"/>
      </geometry>
    </collision>
  </link>
  <joint name="link_handle~handle8_convex_piece_39_joint" type="fixed">
    <origin xyz="0 0 0" rpy="0 0 0"/>
    <parent link="link_handle~handle8_convex_piece_38"/>
    <child link="link_handle~handle8_convex_piece_39"/>
  </joint>
  <link name="link_handle~handle8_convex_piece_40">
    <inertial>
      <origin xyz="0 0 0" rpy="0 0 0"/>
      <mass value="1.46E-04"/>
      <inertia ixx="5.48E-09" ixy="1.20E-08" ixz="-7.54E-09" iyy="4.51E-08" iyz="2.35E-09" izz="4.75E-08"/>
    </inertial>
    <visual>
      <origin xyz="0 0 0" rpy="0 0 0"/>
      <geometry>
        <mesh filename="handle~handle8_convex_piece_40.obj" scale="1.0000E+00 1.0000E+00 1.0000E+00"/>
      </geometry>
      <material name=""/>
    </visual>
    <collision>
      <origin xyz="0 0 0" rpy="0 0 0"/>
      <geometry>
        <mesh filename="handle~handle8_convex_piece_40.obj" scale="1.0000E+00 1.0000E+00 1.0000E+00"/>
      </geometry>
    </collision>
  </link>
  <joint name="link_handle~handle8_convex_piece_40_joint" type="fixed">
    <origin xyz="0 0 0" rpy="0 0 0"/>
    <parent link="link_handle~handle8_convex_piece_39"/>
    <child link="link_handle~handle8_convex_piece_40"/>
  </joint>
  <link name="link_handle~handle8_convex_piece_41">
    <inertial>
      <origin xyz="0 0 0" rpy="0 0 0"/>
      <mass value="6.87E-04"/>
      <inertia ixx="1.81E-08" ixy="1.19E-07" ixz="-1.31E-07" iyy="2.73E-06" iyz="7.14E-09" izz="2.73E-06"/>
    </inertial>
    <visual>
      <origin xyz="0 0 0" rpy="0 0 0"/>
      <geometry>
        <mesh filename="handle~handle8_convex_piece_41.obj" scale="1.0000E+00 1.0000E+00 1.0000E+00"/>
      </geometry>
      <material name=""/>
    </visual>
    <collision>
      <origin xyz="0 0 0" rpy="0 0 0"/>
      <geometry>
        <mesh filename="handle~handle8_convex_piece_41.obj" scale="1.0000E+00 1.0000E+00 1.0000E+00"/>
      </geometry>
    </collision>
  </link>
  <joint name="link_handle~handle8_convex_piece_41_joint" type="fixed">
    <origin xyz="0 0 0" rpy="0 0 0"/>
    <parent link="link_handle~handle8_convex_piece_40"/>
    <child link="link_handle~handle8_convex_piece_41"/>
  </joint>
  <link name="link_handle~handle8_convex_piece_42">
    <inertial>
      <origin xyz="0 0 0" rpy="0 0 0"/>
      <mass value="3.02E-04"/>
      <inertia ixx="7.59E-08" ixy="1.97E-08" ixz="-1.23E-07" iyy="2.85E-07" iyz="1.18E-08" izz="2.14E-07"/>
    </inertial>
    <visual>
      <origin xyz="0 0 0" rpy="0 0 0"/>
      <geometry>
        <mesh filename="handle~handle8_convex_piece_42.obj" scale="1.0000E+00 1.0000E+00 1.0000E+00"/>
      </geometry>
      <material name=""/>
    </visual>
    <collision>
      <origin xyz="0 0 0" rpy="0 0 0"/>
      <geometry>
        <mesh filename="handle~handle8_convex_piece_42.obj" scale="1.0000E+00 1.0000E+00 1.0000E+00"/>
      </geometry>
    </collision>
  </link>
  <joint name="link_handle~handle8_convex_piece_42_joint" type="fixed">
    <origin xyz="0 0 0" rpy="0 0 0"/>
    <parent link="link_handle~handle8_convex_piece_41"/>
    <child link="link_handle~handle8_convex_piece_42"/>
  </joint>
  <link name="link_handle~handle8_convex_piece_43">
    <inertial>
      <origin xyz="0 0 0" rpy="0 0 0"/>
      <mass value="4.19E-05"/>
      <inertia ixx="3.05E-08" ixy="9.54E-09" ixz="-3.51E-08" iyy="7.27E-08" iyz="7.64E-09" izz="4.65E-08"/>
    </inertial>
    <visual>
      <origin xyz="0 0 0" rpy="0 0 0"/>
      <geometry>
        <mesh filename="handle~handle8_convex_piece_43.obj" scale="1.0000E+00 1.0000E+00 1.0000E+00"/>
      </geometry>
      <material name=""/>
    </visual>
    <collision>
      <origin xyz="0 0 0" rpy="0 0 0"/>
      <geometry>
        <mesh filename="handle~handle8_convex_piece_43.obj" scale="1.0000E+00 1.0000E+00 1.0000E+00"/>
      </geometry>
    </collision>
  </link>
  <joint name="link_handle~handle8_convex_piece_43_joint" type="fixed">
    <origin xyz="0 0 0" rpy="0 0 0"/>
    <parent link="link_handle~handle8_convex_piece_42"/>
    <child link="link_handle~handle8_convex_piece_43"/>
  </joint>
  <link name="link_handle~handle8_convex_piece_44">
    <inertial>
      <origin xyz="0 0 0" rpy="0 0 0"/>
      <mass value="1.75E-03"/>
      <inertia ixx="2.36E-07" ixy="1.32E-07" ixz="2.51E-07" iyy="5.95E-07" iyz="-8.61E-08" izz="4.83E-07"/>
    </inertial>
    <visual>
      <origin xyz="0 0 0" rpy="0 0 0"/>
      <geometry>
        <mesh filename="handle~handle8_convex_piece_44.obj" scale="1.0000E+00 1.0000E+00 1.0000E+00"/>
      </geometry>
      <material name=""/>
    </visual>
    <collision>
      <origin xyz="0 0 0" rpy="0 0 0"/>
      <geometry>
        <mesh filename="handle~handle8_convex_piece_44.obj" scale="1.0000E+00 1.0000E+00 1.0000E+00"/>
      </geometry>
    </collision>
  </link>
  <joint name="link_handle~handle8_convex_piece_44_joint" type="fixed">
    <origin xyz="0 0 0" rpy="0 0 0"/>
    <parent link="link_handle~handle8_convex_piece_43"/>
    <child link="link_handle~handle8_convex_piece_44"/>
  </joint>
  <link name="link_handle~handle8_convex_piece_45">
    <inertial>
      <origin xyz="0 0 0" rpy="0 0 0"/>
      <mass value="1.14E-03"/>
      <inertia ixx="5.04E-07" ixy="-3.11E-07" ixz="-7.15E-07" iyy="1.72E-06" iyz="-1.77E-07" izz="1.37E-06"/>
    </inertial>
    <visual>
      <origin xyz="0 0 0" rpy="0 0 0"/>
      <geometry>
        <mesh filename="handle~handle8_convex_piece_45.obj" scale="1.0000E+00 1.0000E+00 1.0000E+00"/>
      </geometry>
      <material name=""/>
    </visual>
    <collision>
      <origin xyz="0 0 0" rpy="0 0 0"/>
      <geometry>
        <mesh filename="handle~handle8_convex_piece_45.obj" scale="1.0000E+00 1.0000E+00 1.0000E+00"/>
      </geometry>
    </collision>
  </link>
  <joint name="link_handle~handle8_convex_piece_45_joint" type="fixed">
    <origin xyz="0 0 0" rpy="0 0 0"/>
    <parent link="link_handle~handle8_convex_piece_44"/>
    <child link="link_handle~handle8_convex_piece_45"/>
  </joint>
  <link name="link_handle~handle8_convex_piece_46">
    <inertial>
      <origin xyz="0 0 0" rpy="0 0 0"/>
      <mass value="1.04E-03"/>
      <inertia ixx="3.66E-08" ixy="4.78E-08" ixz="3.91E-08" iyy="2.03E-07" iyz="-1.46E-08" izz="2.14E-07"/>
    </inertial>
    <visual>
      <origin xyz="0 0 0" rpy="0 0 0"/>
      <geometry>
        <mesh filename="handle~handle8_convex_piece_46.obj" scale="1.0000E+00 1.0000E+00 1.0000E+00"/>
      </geometry>
      <material name=""/>
    </visual>
    <collision>
      <origin xyz="0 0 0" rpy="0 0 0"/>
      <geometry>
        <mesh filename="handle~handle8_convex_piece_46.obj" scale="1.0000E+00 1.0000E+00 1.0000E+00"/>
      </geometry>
    </collision>
  </link>
  <joint name="link_handle~handle8_convex_piece_46_joint" type="fixed">
    <origin xyz="0 0 0" rpy="0 0 0"/>
    <parent link="link_handle~handle8_convex_piece_45"/>
    <child link="link_handle~handle8_convex_piece_46"/>
  </joint>
  <link name="link_handle~handle8_convex_piece_47">
    <inertial>
      <origin xyz="0 0 0" rpy="0 0 0"/>
      <mass value="1.02E-03"/>
      <inertia ixx="2.81E-08" ixy="-9.16E-08" ixz="-1.05E-07" iyy="1.31E-06" iyz="-1.03E-08" izz="1.31E-06"/>
    </inertial>
    <visual>
      <origin xyz="0 0 0" rpy="0 0 0"/>
      <geometry>
        <mesh filename="handle~handle8_convex_piece_47.obj" scale="1.0000E+00 1.0000E+00 1.0000E+00"/>
      </geometry>
      <material name=""/>
    </visual>
    <collision>
      <origin xyz="0 0 0" rpy="0 0 0"/>
      <geometry>
        <mesh filename="handle~handle8_convex_piece_47.obj" scale="1.0000E+00 1.0000E+00 1.0000E+00"/>
      </geometry>
    </collision>
  </link>
  <joint name="link_handle~handle8_convex_piece_47_joint" type="fixed">
    <origin xyz="0 0 0" rpy="0 0 0"/>
    <parent link="link_handle~handle8_convex_piece_46"/>
    <child link="link_handle~handle8_convex_piece_47"/>
  </joint>
  <link name="link_handle~handle8_convex_piece_48">
    <inertial>
      <origin xyz="0 0 0" rpy="0 0 0"/>
      <mass value="2.59E-04"/>
      <inertia ixx="1.71E-08" ixy="-1.02E-07" ixz="-5.98E-08" iyy="8.84E-07" iyz="-7.39E-09" izz="8.92E-07"/>
    </inertial>
    <visual>
      <origin xyz="0 0 0" rpy="0 0 0"/>
      <geometry>
        <mesh filename="handle~handle8_convex_piece_48.obj" scale="1.0000E+00 1.0000E+00 1.0000E+00"/>
      </geometry>
      <material name=""/>
    </visual>
    <collision>
      <origin xyz="0 0 0" rpy="0 0 0"/>
      <geometry>
        <mesh filename="handle~handle8_convex_piece_48.obj" scale="1.0000E+00 1.0000E+00 1.0000E+00"/>
      </geometry>
    </collision>
  </link>
  <joint name="link_handle~handle8_convex_piece_48_joint" type="fixed">
    <origin xyz="0 0 0" rpy="0 0 0"/>
    <parent link="link_handle~handle8_convex_piece_47"/>
    <child link="link_handle~handle8_convex_piece_48"/>
  </joint>
  <link name="link_handle~handle8_convex_piece_49">
    <inertial>
      <origin xyz="0 0 0" rpy="0 0 0"/>
      <mass value="1.62E-03"/>
      <inertia ixx="8.37E-08" ixy="2.48E-09" ixz="-1.36E-07" iyy="1.11E-06" iyz="2.76E-10" izz="1.14E-06"/>
    </inertial>
    <visual>
      <origin xyz="0 0 0" rpy="0 0 0"/>
      <geometry>
        <mesh filename="handle~handle8_convex_piece_49.obj" scale="1.0000E+00 1.0000E+00 1.0000E+00"/>
      </geometry>
      <material name=""/>
    </visual>
    <collision>
      <origin xyz="0 0 0" rpy="0 0 0"/>
      <geometry>
        <mesh filename="handle~handle8_convex_piece_49.obj" scale="1.0000E+00 1.0000E+00 1.0000E+00"/>
      </geometry>
    </collision>
  </link>
  <joint name="link_handle~handle8_convex_piece_49_joint" type="fixed">
    <origin xyz="0 0 0" rpy="0 0 0"/>
    <parent link="link_handle~handle8_convex_piece_48"/>
    <child link="link_handle~handle8_convex_piece_49"/>
  </joint>
  <link name="link_handle~handle8_convex_piece_50">
    <inertial>
      <origin xyz="0 0 0" rpy="0 0 0"/>
      <mass value="2.92E-04"/>
      <inertia ixx="7.21E-08" ixy="-2.46E-08" ixz="-1.17E-07" iyy="2.72E-07" iyz="-1.44E-08" izz="2.07E-07"/>
    </inertial>
    <visual>
      <origin xyz="0 0 0" rpy="0 0 0"/>
      <geometry>
        <mesh filename="handle~handle8_convex_piece_50.obj" scale="1.0000E+00 1.0000E+00 1.0000E+00"/>
      </geometry>
      <material name=""/>
    </visual>
    <collision>
      <origin xyz="0 0 0" rpy="0 0 0"/>
      <geometry>
        <mesh filename="handle~handle8_convex_piece_50.obj" scale="1.0000E+00 1.0000E+00 1.0000E+00"/>
      </geometry>
    </collision>
  </link>
  <joint name="link_handle~handle8_convex_piece_50_joint" type="fixed">
    <origin xyz="0 0 0" rpy="0 0 0"/>
    <parent link="link_handle~handle8_convex_piece_49"/>
    <child link="link_handle~handle8_convex_piece_50"/>
  </joint>
  <link name="link_handle~handle8_convex_piece_51">
    <inertial>
      <origin xyz="0 0 0" rpy="0 0 0"/>
      <mass value="4.64E-04"/>
      <inertia ixx="1.52E-08" ixy="-1.63E-08" ixz="-1.52E-07" iyy="2.82E-06" iyz="-1.07E-09" izz="2.82E-06"/>
    </inertial>
    <visual>
      <origin xyz="0 0 0" rpy="0 0 0"/>
      <geometry>
        <mesh filename="handle~handle8_convex_piece_51.obj" scale="1.0000E+00 1.0000E+00 1.0000E+00"/>
      </geometry>
      <material name=""/>
    </visual>
    <collision>
      <origin xyz="0 0 0" rpy="0 0 0"/>
      <geometry>
        <mesh filename="handle~handle8_convex_piece_51.obj" scale="1.0000E+00 1.0000E+00 1.0000E+00"/>
      </geometry>
    </collision>
  </link>
  <joint name="link_handle~handle8_convex_piece_51_joint" type="fixed">
    <origin xyz="0 0 0" rpy="0 0 0"/>
    <parent link="link_handle~handle8_convex_piece_50"/>
    <child link="link_handle~handle8_convex_piece_51"/>
  </joint>
  <link name="link_handle~handle8_convex_piece_52">
    <inertial>
      <origin xyz="0 0 0" rpy="0 0 0"/>
      <mass value="1.82E-04"/>
      <inertia ixx="7.00E-08" ixy="2.41E-08" ixz="-9.36E-08" iyy="2.65E-07" iyz="1.15E-08" izz="2.00E-07"/>
    </inertial>
    <visual>
      <origin xyz="0 0 0" rpy="0 0 0"/>
      <geometry>
        <mesh filename="handle~handle8_convex_piece_52.obj" scale="1.0000E+00 1.0000E+00 1.0000E+00"/>
      </geometry>
      <material name=""/>
    </visual>
    <collision>
      <origin xyz="0 0 0" rpy="0 0 0"/>
      <geometry>
        <mesh filename="handle~handle8_convex_piece_52.obj" scale="1.0000E+00 1.0000E+00 1.0000E+00"/>
      </geometry>
    </collision>
  </link>
  <joint name="link_handle~handle8_convex_piece_52_joint" type="fixed">
    <origin xyz="0 0 0" rpy="0 0 0"/>
    <parent link="link_handle~handle8_convex_piece_51"/>
    <child link="link_handle~handle8_convex_piece_52"/>
  </joint>
  <link name="link_handle~handle8_convex_piece_53">
    <inertial>
      <origin xyz="0 0 0" rpy="0 0 0"/>
      <mass value="2.14E-04"/>
      <inertia ixx="2.05E-07" ixy="2.10E-08" ixz="-2.44E-07" iyy="5.00E-07" iyz="1.75E-08" izz="2.98E-07"/>
    </inertial>
    <visual>
      <origin xyz="0 0 0" rpy="0 0 0"/>
      <geometry>
        <mesh filename="handle~handle8_convex_piece_53.obj" scale="1.0000E+00 1.0000E+00 1.0000E+00"/>
      </geometry>
      <material name=""/>
    </visual>
    <collision>
      <origin xyz="0 0 0" rpy="0 0 0"/>
      <geometry>
        <mesh filename="handle~handle8_convex_piece_53.obj" scale="1.0000E+00 1.0000E+00 1.0000E+00"/>
      </geometry>
    </collision>
  </link>
  <joint name="link_handle~handle8_convex_piece_53_joint" type="fixed">
    <origin xyz="0 0 0" rpy="0 0 0"/>
    <parent link="link_handle~handle8_convex_piece_52"/>
    <child link="link_handle~handle8_convex_piece_53"/>
  </joint>
  <link name="link_handle~handle8_convex_piece_54">
    <inertial>
      <origin xyz="0 0 0" rpy="0 0 0"/>
      <mass value="3.63E-04"/>
      <inertia ixx="2.85E-07" ixy="2.64E-08" ixz="-2.86E-07" iyy="5.80E-07" iyz="2.55E-08" izz="3.00E-07"/>
    </inertial>
    <visual>
      <origin xyz="0 0 0" rpy="0 0 0"/>
      <geometry>
        <mesh filename="handle~handle8_convex_piece_54.obj" scale="1.0000E+00 1.0000E+00 1.0000E+00"/>
      </geometry>
      <material name=""/>
    </visual>
    <collision>
      <origin xyz="0 0 0" rpy="0 0 0"/>
      <geometry>
        <mesh filename="handle~handle8_convex_piece_54.obj" scale="1.0000E+00 1.0000E+00 1.0000E+00"/>
      </geometry>
    </collision>
  </link>
  <joint name="link_handle~handle8_convex_piece_54_joint" type="fixed">
    <origin xyz="0 0 0" rpy="0 0 0"/>
    <parent link="link_handle~handle8_convex_piece_53"/>
    <child link="link_handle~handle8_convex_piece_54"/>
  </joint>
  <link name="link_handle~handle8_convex_piece_55">
    <inertial>
      <origin xyz="0 0 0" rpy="0 0 0"/>
      <mass value="2.66E-04"/>
      <inertia ixx="2.58E-07" ixy="4.80E-08" ixz="-2.73E-07" iyy="5.54E-07" iyz="4.32E-08" izz="3.12E-07"/>
    </inertial>
    <visual>
      <origin xyz="0 0 0" rpy="0 0 0"/>
      <geometry>
        <mesh filename="handle~handle8_convex_piece_55.obj" scale="1.0000E+00 1.0000E+00 1.0000E+00"/>
      </geometry>
      <material name=""/>
    </visual>
    <collision>
      <origin xyz="0 0 0" rpy="0 0 0"/>
      <geometry>
        <mesh filename="handle~handle8_convex_piece_55.obj" scale="1.0000E+00 1.0000E+00 1.0000E+00"/>
      </geometry>
    </collision>
  </link>
  <joint name="link_handle~handle8_convex_piece_55_joint" type="fixed">
    <origin xyz="0 0 0" rpy="0 0 0"/>
    <parent link="link_handle~handle8_convex_piece_54"/>
    <child link="link_handle~handle8_convex_piece_55"/>
  </joint>
  <link name="link_handle~handle8_convex_piece_56">
    <inertial>
      <origin xyz="0 0 0" rpy="0 0 0"/>
      <mass value="4.65E-03"/>
      <inertia ixx="5.23E-07" ixy="-3.92E-07" ixz="5.22E-07" iyy="1.78E-06" iyz="1.96E-07" izz="1.62E-06"/>
    </inertial>
    <visual>
      <origin xyz="0 0 0" rpy="0 0 0"/>
      <geometry>
        <mesh filename="handle~handle8_convex_piece_56.obj" scale="1.0000E+00 1.0000E+00 1.0000E+00"/>
      </geometry>
      <material name=""/>
    </visual>
    <collision>
      <origin xyz="0 0 0" rpy="0 0 0"/>
      <geometry>
        <mesh filename="handle~handle8_convex_piece_56.obj" scale="1.0000E+00 1.0000E+00 1.0000E+00"/>
      </geometry>
    </collision>
  </link>
  <joint name="link_handle~handle8_convex_piece_56_joint" type="fixed">
    <origin xyz="0 0 0" rpy="0 0 0"/>
    <parent link="link_handle~handle8_convex_piece_55"/>
    <child link="link_handle~handle8_convex_piece_56"/>
  </joint>
  <link name="link_handle~handle8_convex_piece_57">
    <inertial>
      <origin xyz="0 0 0" rpy="0 0 0"/>
      <mass value="7.59E-04"/>
      <inertia ixx="8.76E-08" ixy="2.43E-07" ixz="-4.07E-07" iyy="3.03E-06" iyz="3.38E-08" izz="2.99E-06"/>
    </inertial>
    <visual>
      <origin xyz="0 0 0" rpy="0 0 0"/>
      <geometry>
        <mesh filename="handle~handle8_convex_piece_57.obj" scale="1.0000E+00 1.0000E+00 1.0000E+00"/>
      </geometry>
      <material name=""/>
    </visual>
    <collision>
      <origin xyz="0 0 0" rpy="0 0 0"/>
      <geometry>
        <mesh filename="handle~handle8_convex_piece_57.obj" scale="1.0000E+00 1.0000E+00 1.0000E+00"/>
      </geometry>
    </collision>
  </link>
  <joint name="link_handle~handle8_convex_piece_57_joint" type="fixed">
    <origin xyz="0 0 0" rpy="0 0 0"/>
    <parent link="link_handle~handle8_convex_piece_56"/>
    <child link="link_handle~handle8_convex_piece_57"/>
  </joint>
  <link name="link_handle~handle8_convex_piece_58">
    <inertial>
      <origin xyz="0 0 0" rpy="0 0 0"/>
      <mass value="3.18E-03"/>
      <inertia ixx="3.87E-07" ixy="-7.10E-08" ixz="-1.73E-07" iyy="5.83E-07" iyz="-1.25E-07" izz="3.73E-07"/>
    </inertial>
    <visual>
      <origin xyz="0 0 0" rpy="0 0 0"/>
      <geometry>
        <mesh filename="handle~handle8_convex_piece_58.obj" scale="1.0000E+00 1.0000E+00 1.0000E+00"/>
      </geometry>
      <material name=""/>
    </visual>
    <collision>
      <origin xyz="0 0 0" rpy="0 0 0"/>
      <geometry>
        <mesh filename="handle~handle8_convex_piece_58.obj" scale="1.0000E+00 1.0000E+00 1.0000E+00"/>
      </geometry>
    </collision>
  </link>
  <joint name="link_handle~handle8_convex_piece_58_joint" type="fixed">
    <origin xyz="0 0 0" rpy="0 0 0"/>
    <parent link="link_handle~handle8_convex_piece_57"/>
    <child link="link_handle~handle8_convex_piece_58"/>
  </joint>
  <link name="link_handle~handle8_convex_piece_59">
    <inertial>
      <origin xyz="0 0 0" rpy="0 0 0"/>
      <mass value="1.89E-04"/>
      <inertia ixx="3.51E-09" ixy="-3.07E-09" ixz="1.99E-08" iyy="2.07E-07" iyz="1.18E-10" izz="2.06E-07"/>
    </inertial>
    <visual>
      <origin xyz="0 0 0" rpy="0 0 0"/>
      <geometry>
        <mesh filename="handle~handle8_convex_piece_59.obj" scale="1.0000E+00 1.0000E+00 1.0000E+00"/>
      </geometry>
      <material name=""/>
    </visual>
    <collision>
      <origin xyz="0 0 0" rpy="0 0 0"/>
      <geometry>
        <mesh filename="handle~handle8_convex_piece_59.obj" scale="1.0000E+00 1.0000E+00 1.0000E+00"/>
      </geometry>
    </collision>
  </link>
  <joint name="link_handle~handle8_convex_piece_59_joint" type="fixed">
    <origin xyz="0 0 0" rpy="0 0 0"/>
    <parent link="link_handle~handle8_convex_piece_58"/>
    <child link="link_handle~handle8_convex_piece_59"/>
  </joint>
  <link name="link_handle~handle8_convex_piece_60">
    <inertial>
      <origin xyz="0 0 0" rpy="0 0 0"/>
      <mass value="4.02E-04"/>
      <inertia ixx="2.12E-07" ixy="-1.26E-08" ixz="-2.24E-07" iyy="4.51E-07" iyz="-1.13E-08" izz="2.48E-07"/>
    </inertial>
    <visual>
      <origin xyz="0 0 0" rpy="0 0 0"/>
      <geometry>
        <mesh filename="handle~handle8_convex_piece_60.obj" scale="1.0000E+00 1.0000E+00 1.0000E+00"/>
      </geometry>
      <material name=""/>
    </visual>
    <collision>
      <origin xyz="0 0 0" rpy="0 0 0"/>
      <geometry>
        <mesh filename="handle~handle8_convex_piece_60.obj" scale="1.0000E+00 1.0000E+00 1.0000E+00"/>
      </geometry>
    </collision>
  </link>
  <joint name="link_handle~handle8_convex_piece_60_joint" type="fixed">
    <origin xyz="0 0 0" rpy="0 0 0"/>
    <parent link="link_handle~handle8_convex_piece_59"/>
    <child link="link_handle~handle8_convex_piece_60"/>
  </joint>
  <link name="link_handle~handle8_convex_piece_61">
    <inertial>
      <origin xyz="0 0 0" rpy="0 0 0"/>
      <mass value="1.07E-04"/>
      <inertia ixx="5.36E-09" ixy="2.99E-08" ixz="-1.16E-08" iyy="2.36E-07" iyz="1.75E-09" izz="2.40E-07"/>
    </inertial>
    <visual>
      <origin xyz="0 0 0" rpy="0 0 0"/>
      <geometry>
        <mesh filename="handle~handle8_convex_piece_61.obj" scale="1.0000E+00 1.0000E+00 1.0000E+00"/>
      </geometry>
      <material name=""/>
    </visual>
    <collision>
      <origin xyz="0 0 0" rpy="0 0 0"/>
      <geometry>
        <mesh filename="handle~handle8_convex_piece_61.obj" scale="1.0000E+00 1.0000E+00 1.0000E+00"/>
      </geometry>
    </collision>
  </link>
  <joint name="link_handle~handle8_convex_piece_61_joint" type="fixed">
    <origin xyz="0 0 0" rpy="0 0 0"/>
    <parent link="link_handle~handle8_convex_piece_60"/>
    <child link="link_handle~handle8_convex_piece_61"/>
  </joint>
  <link name="link_handle~handle8_convex_piece_62">
    <inertial>
      <origin xyz="0 0 0" rpy="0 0 0"/>
      <mass value="2.34E-04"/>
      <inertia ixx="1.57E-07" ixy="-2.27E-08" ixz="-1.72E-07" iyy="3.49E-07" iyz="-2.00E-08" izz="1.99E-07"/>
    </inertial>
    <visual>
      <origin xyz="0 0 0" rpy="0 0 0"/>
      <geometry>
        <mesh filename="handle~handle8_convex_piece_62.obj" scale="1.0000E+00 1.0000E+00 1.0000E+00"/>
      </geometry>
      <material name=""/>
    </visual>
    <collision>
      <origin xyz="0 0 0" rpy="0 0 0"/>
      <geometry>
        <mesh filename="handle~handle8_convex_piece_62.obj" scale="1.0000E+00 1.0000E+00 1.0000E+00"/>
      </geometry>
    </collision>
  </link>
  <joint name="link_handle~handle8_convex_piece_62_joint" type="fixed">
    <origin xyz="0 0 0" rpy="0 0 0"/>
    <parent link="link_handle~handle8_convex_piece_61"/>
    <child link="link_handle~handle8_convex_piece_62"/>
  </joint>
  <link name="link_handle~handle8_convex_piece_63">
    <inertial>
      <origin xyz="0 0 0" rpy="0 0 0"/>
      <mass value="5.14E-03"/>
      <inertia ixx="7.34E-07" ixy="-9.53E-10" ixz="-1.84E-06" iyy="7.16E-06" iyz="-1.47E-10" izz="6.74E-06"/>
    </inertial>
    <visual>
      <origin xyz="0 0 0" rpy="0 0 0"/>
      <geometry>
        <mesh filename="handle~handle8_convex_piece_63.obj" scale="1.0000E+00 1.0000E+00 1.0000E+00"/>
      </geometry>
      <material name=""/>
    </visual>
    <collision>
      <origin xyz="0 0 0" rpy="0 0 0"/>
      <geometry>
        <mesh filename="handle~handle8_convex_piece_63.obj" scale="1.0000E+00 1.0000E+00 1.0000E+00"/>
      </geometry>
    </collision>
  </link>
  <joint name="link_handle~handle8_convex_piece_63_joint" type="fixed">
    <origin xyz="0 0 0" rpy="0 0 0"/>
    <parent link="link_handle~handle8_convex_piece_62"/>
    <child link="link_handle~handle8_convex_piece_63"/>
  </joint>
</robot>
